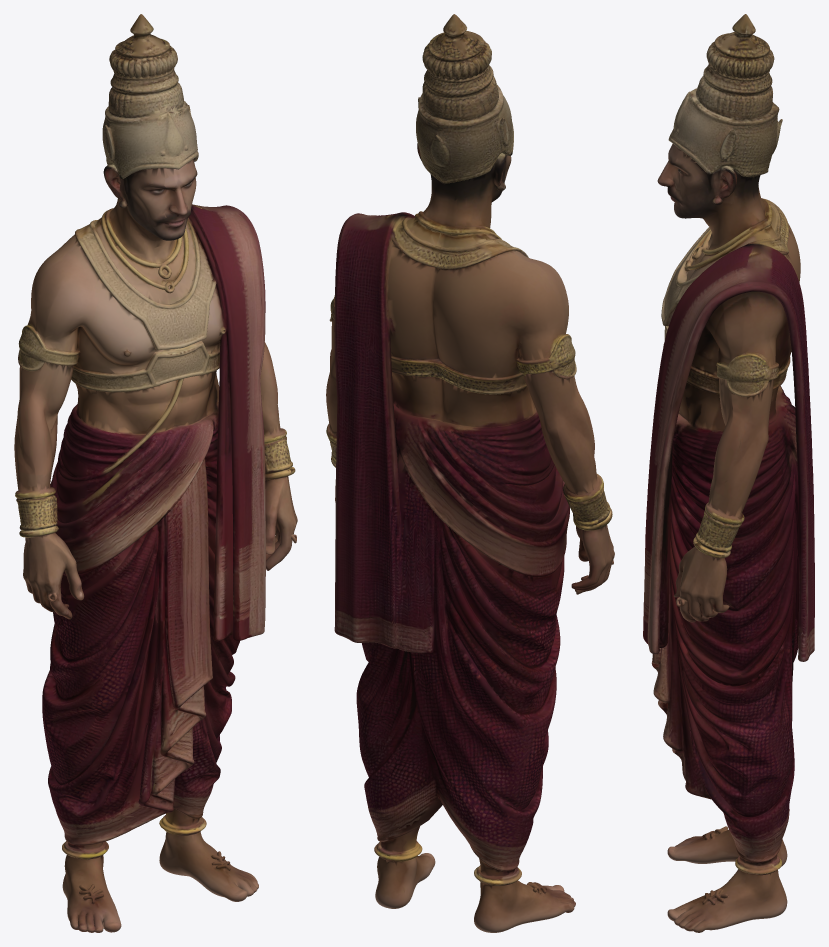
Rendered from aditya_cholan.glb.
3 renders of one model, left to right at view 1: azimuth 30°, elevation 25°; view 2: azimuth 150°, elevation 25°; view 3: azimuth 270°, elevation 25°, orthographic. The views are drawn at different scales.
Parts seen in each view (by area): view 1: node_0; view 2: node_0; view 3: node_0.
Boxes of the visible parts, x1,y1,x2,y2 form: node_0: (14, 14, 297, 932); node_0: (326, 14, 614, 932); node_0: (643, 14, 814, 932).
Bounding box in the file's own units: 0.3796 × 1.18 × 0.2088.
1 material, 1 textured.
